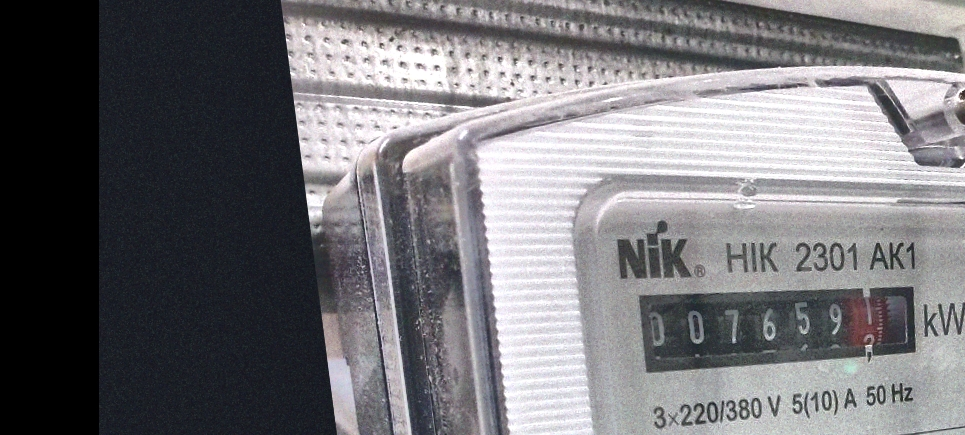0: (682, 304, 711, 348), (643, 306, 671, 350)
1: (859, 294, 880, 329)
5: (791, 297, 816, 338)
6: (756, 303, 782, 344)
7: (721, 304, 745, 347)
9: (826, 299, 847, 338)
screen: (627, 250, 933, 406)
